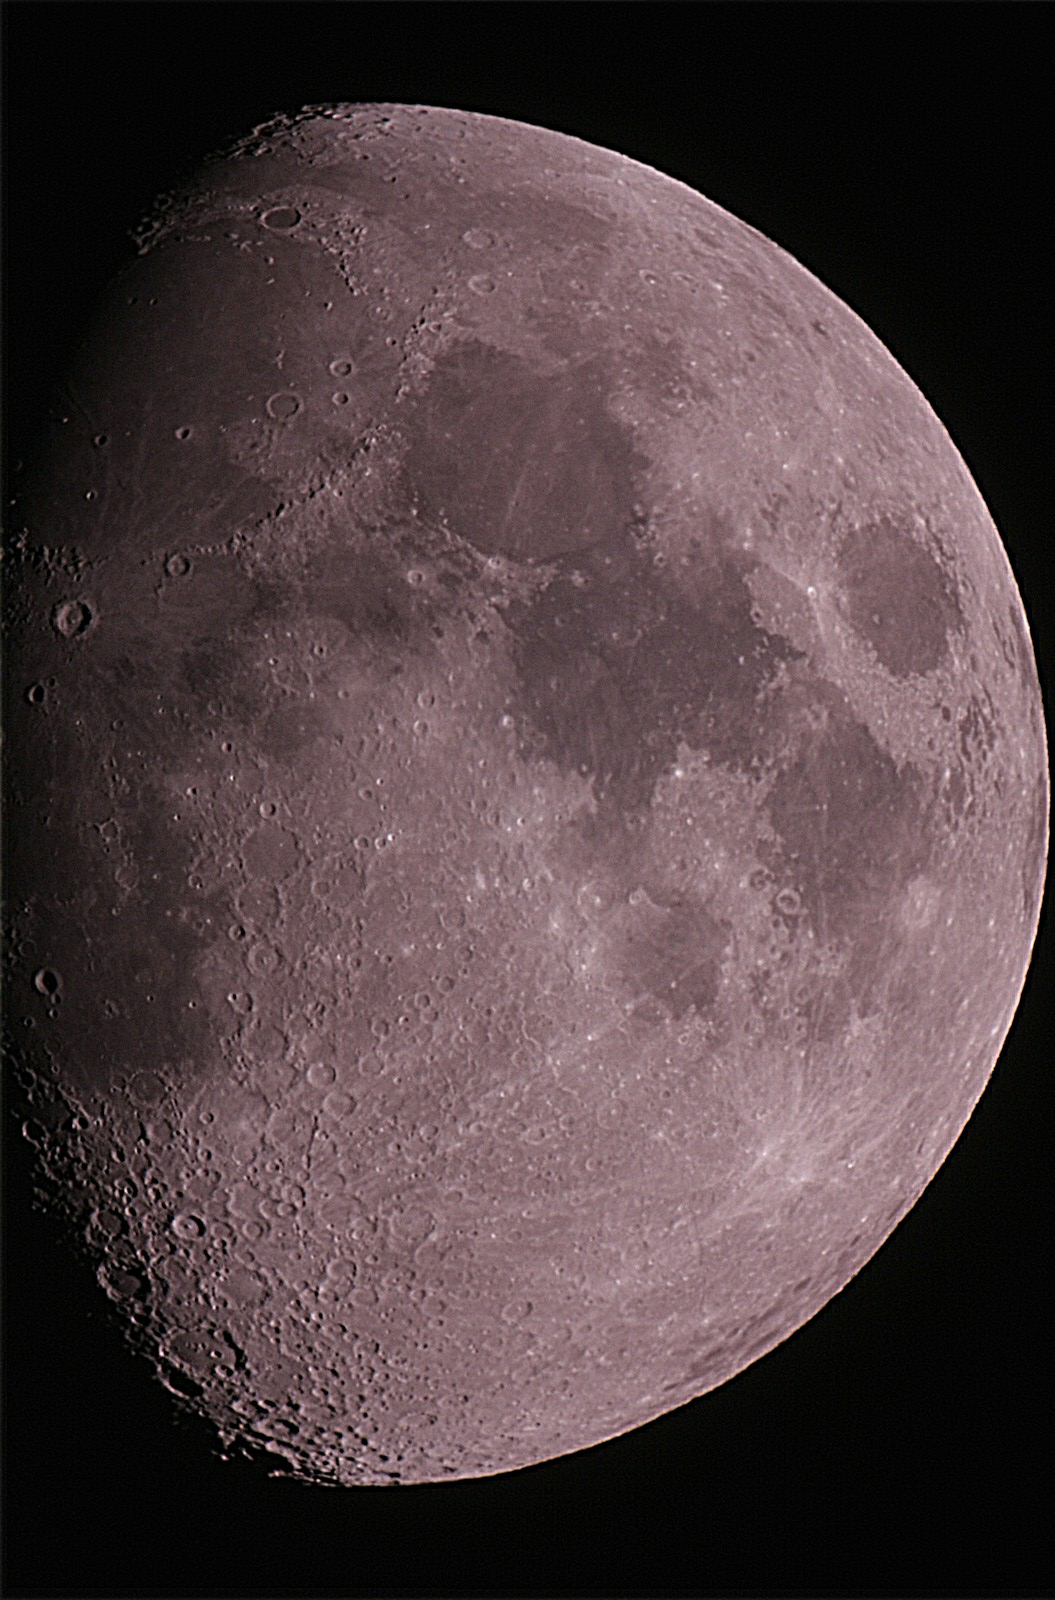crater: (798, 479, 976, 705), (19, 566, 118, 658), (231, 190, 329, 252), (16, 942, 85, 1017), (139, 535, 208, 597), (443, 210, 512, 265), (159, 1194, 218, 1254), (253, 374, 305, 442), (565, 874, 628, 929), (16, 668, 68, 725), (453, 265, 513, 313), (313, 341, 364, 391), (296, 1048, 344, 1098), (495, 1288, 544, 1334), (725, 337, 774, 379), (214, 910, 258, 954), (672, 259, 706, 305), (359, 296, 398, 333), (632, 261, 671, 298), (407, 682, 446, 718), (400, 715, 442, 746), (398, 560, 433, 596), (320, 389, 358, 421), (253, 794, 285, 829), (304, 636, 334, 668), (372, 166, 403, 192)
